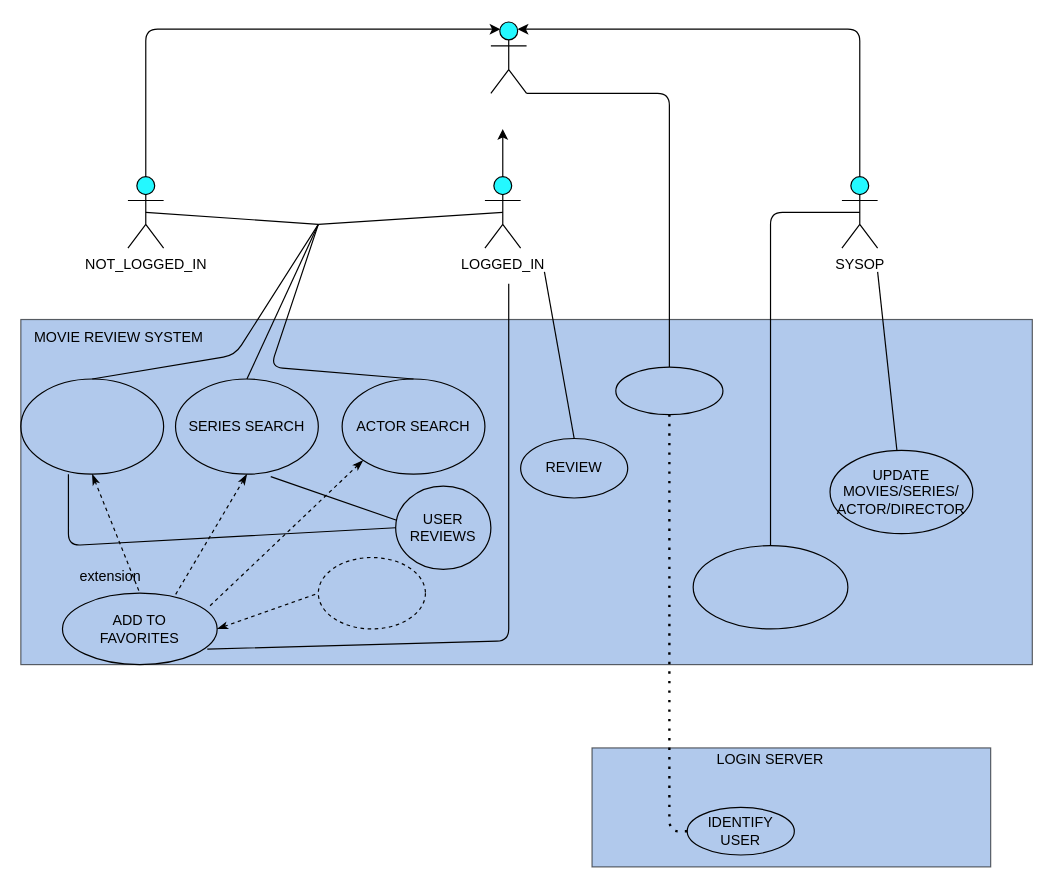
The diagram is 1053 pixels wide and 888 high, and some of its shapes have lost their labels. Here are the shapes that lost their labels. From the top down, the centre of each, then its label:
pixel 508 57: USERS
pixel 669 390: LOGIN
pixel 92 426: MOVIE SEARCH
pixel 371 592: SEND NOTIFICATION
pixel 770 586: ADD NEW MOVIE/SERIES/ ACTOR/DIRECTOR
